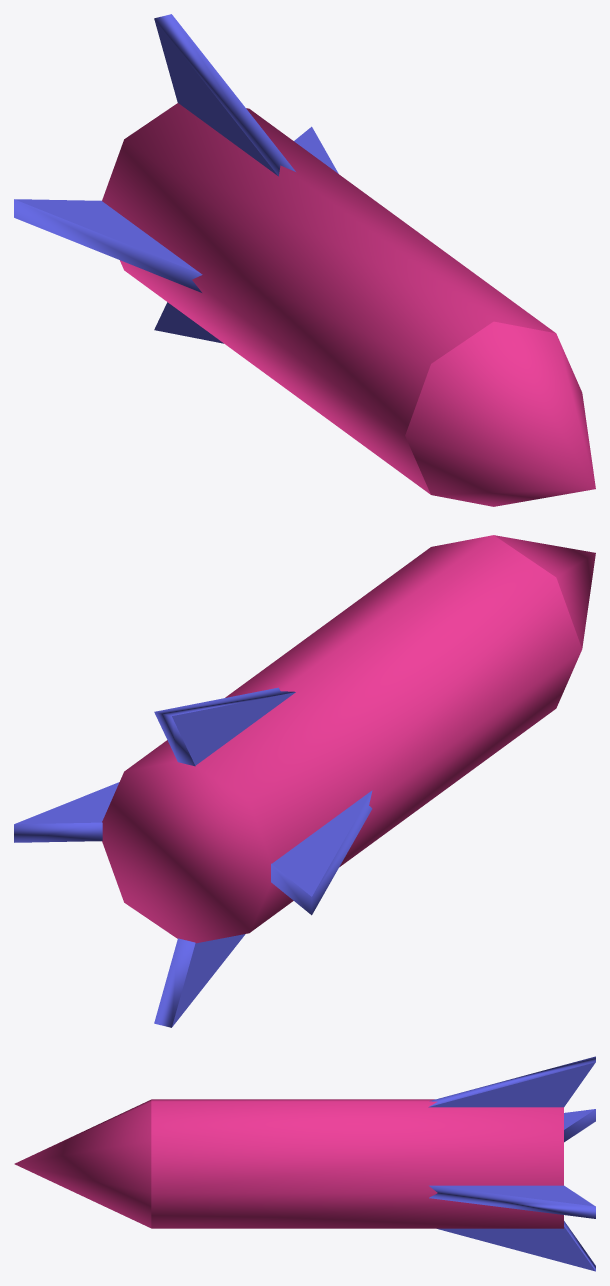
File: rocket.gltf
3 views of the same model, one above another, from view 1: azimuth 30°, elevation 25°; view 2: azimuth 150°, elevation 25°; view 3: azimuth 270°, elevation 25° (orthographic). The views are drawn at different scales.
Visible parts, largest first — view 1: Rocket; view 2: Rocket; view 3: Rocket.
Part boxes in pixels (box(x1,y1,x2,y2)): Rocket: box(14, 14, 595, 506); Rocket: box(14, 535, 595, 1027); Rocket: box(14, 1056, 595, 1271).
Bounding box in the file's own units: 0.5043 × 0.5043 × 1.27.
